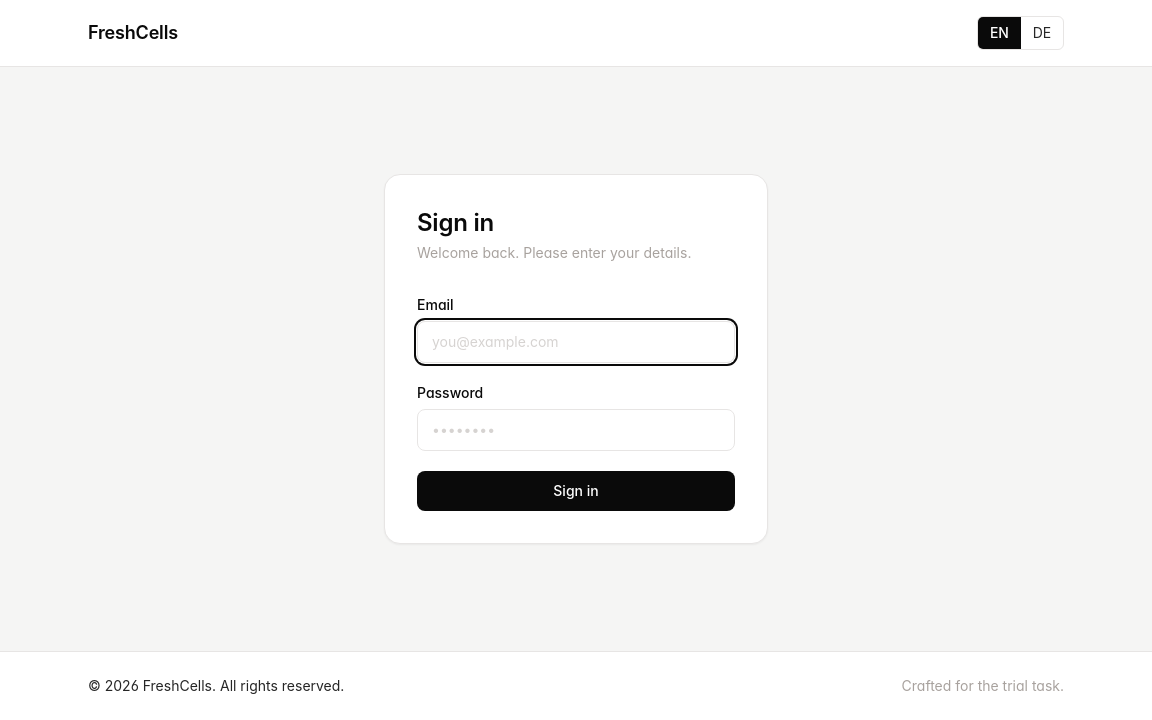
Test case: login form validation › submit button is disabled after failed validation
This screenshot has width=1152, height=720.
Expected: the submit button is enabled
Step 1. Type "not-an-email" into the field with id "identifier" → (576, 342), box [417, 321, 735, 363]
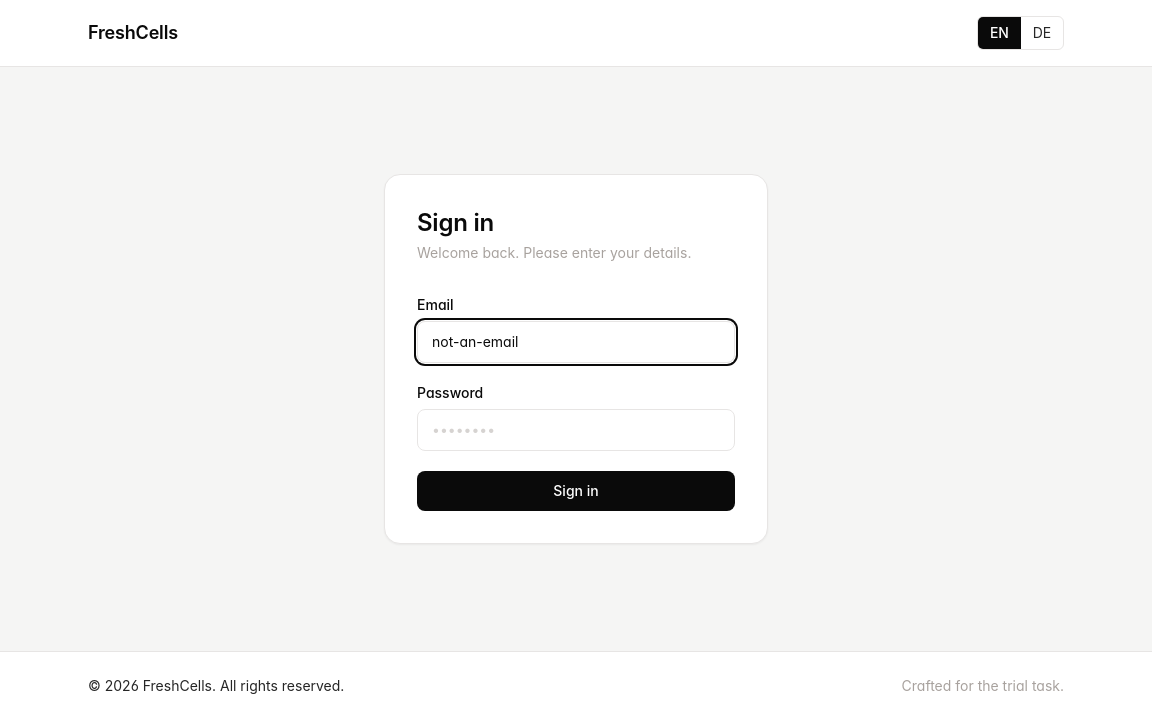
Step 2. Click the submit button → (576, 491), box [417, 471, 735, 511]
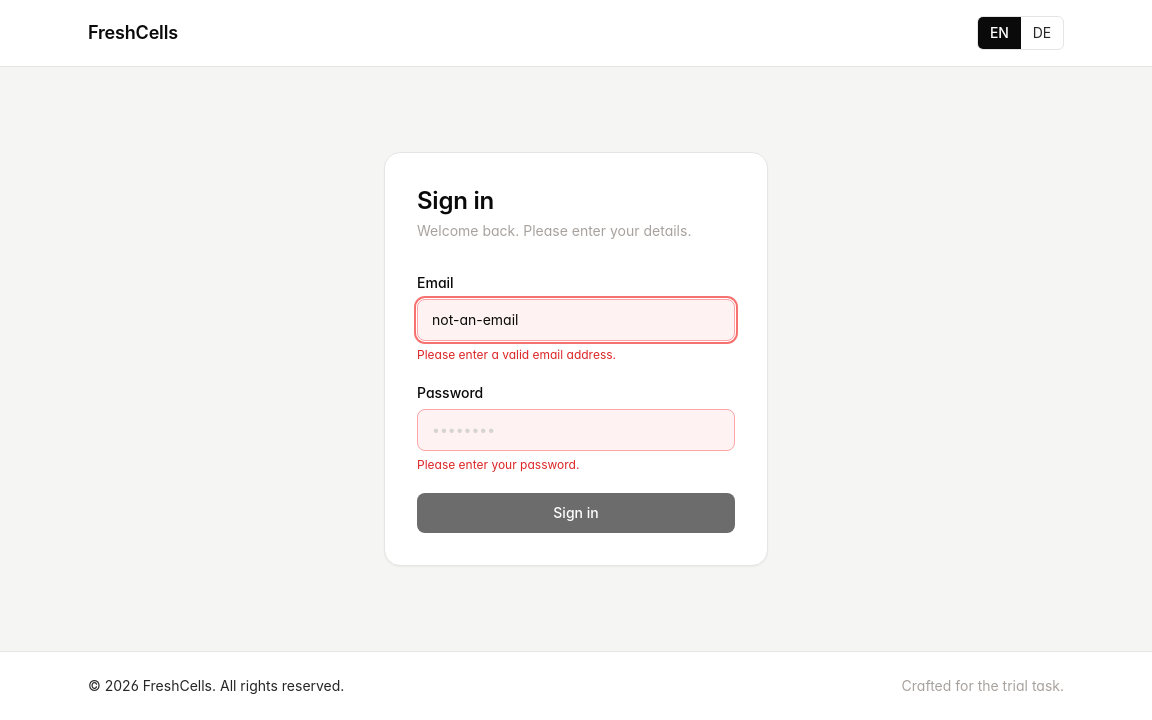
Expected: the submit button is disabled, [417, 493, 735, 533]
